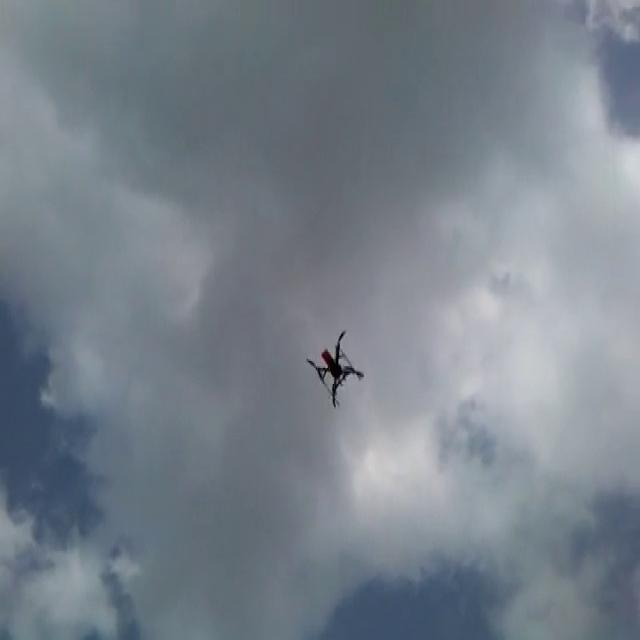drone: (305, 329, 364, 411)
